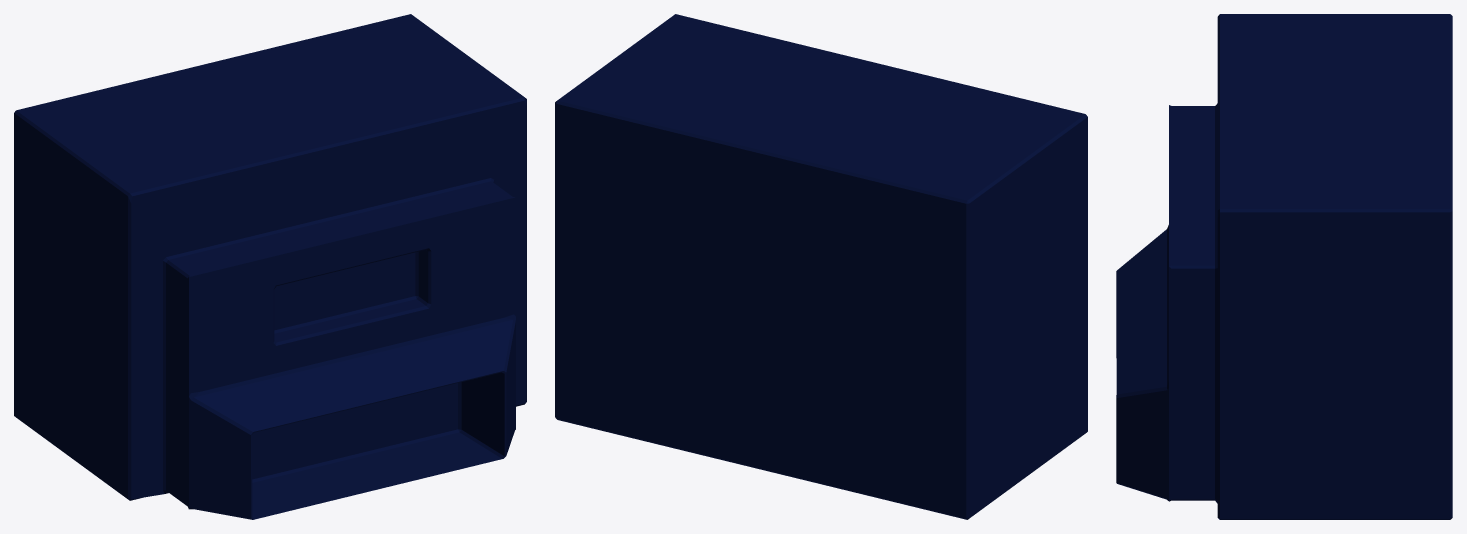
File: Building_2.fbx
The picture shows the model from 3 angles, left to right: view 1: azimuth 30°, elevation 25°; view 2: azimuth 150°, elevation 25°; view 3: azimuth 270°, elevation 25°; orthographic projection. The views are drawn at different scales.
Parts seen in each view (by area): view 1: Cube.002, Cube.003; view 2: Cube.002; view 3: Cube.002.
Part boxes in pixels (left/top/right/bottom): Cube.002: left=14, top=14, right=526, bottom=519; Cube.003: left=274, top=252, right=415, bottom=330; Cube.002: left=555, top=14, right=1087, bottom=519; Cube.002: left=1116, top=14, right=1452, bottom=519.
Bounding box in the file's own units: 397 × 292 × 286.
